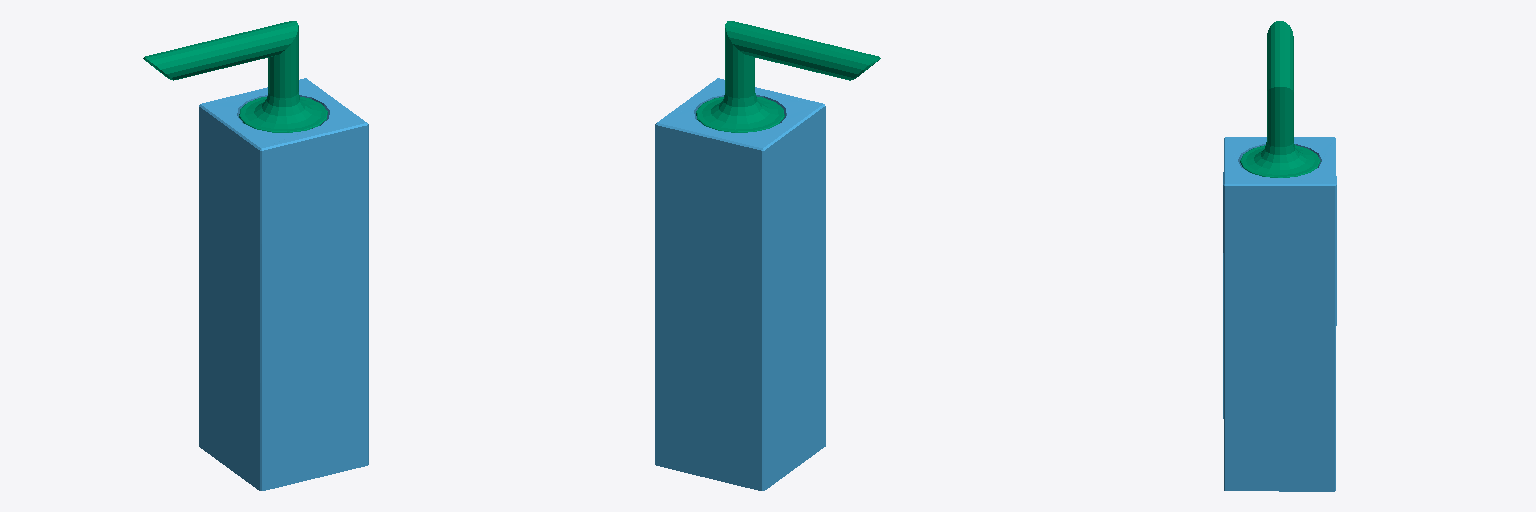
URDF robot description (partnet_76221d93ba6f391876c18e71fd49c4dc):
<?xml version="1.0" ?>
<robot name="partnet_76221d93ba6f391876c18e71fd49c4dc">
	<link name="base"/>
	<link name="link_0">
		<visual name="base_body-4">
			<origin xyz="0 0 0"/>
			<geometry>
				<mesh filename="textured_objs/original_1.obj"/>
			</geometry>
		</visual>
		<collision>
			<origin xyz="0 0 0"/>
			<geometry>
				<mesh filename="textured_objs/original_1.obj"/>
			</geometry>
		</collision>
	</link>
	<joint name="joint_0" type="fixed">
		<origin rpy="1.570796326794897 0 -1.570796326794897" xyz="0 0 0"/>
		<child link="link_0"/>
		<parent link="base"/>
	</joint>
	<link name="link_1">
		<visual name="pressing_lid-2">
			<origin xyz="-0.0003029999999999977 0 0.014980500000000008"/>
			<geometry>
				<mesh filename="textured_objs/original_3.obj"/>
			</geometry>
		</visual>
		<visual name="outlier-3">
			<origin xyz="-0.0003029999999999977 0 0.014980500000000008"/>
			<geometry>
				<mesh filename="textured_objs/original_4.obj"/>
			</geometry>
		</visual>
		<collision>
			<origin xyz="-0.0003029999999999977 0 0.014980500000000008"/>
			<geometry>
				<mesh filename="textured_objs/original_3.obj"/>
			</geometry>
		</collision>
		<collision>
			<origin xyz="-0.0003029999999999977 0 0.014980500000000008"/>
			<geometry>
				<mesh filename="textured_objs/original_4.obj"/>
			</geometry>
		</collision>
	</link>
	<joint name="joint_1" type="continuous">
		<origin xyz="0.0 0 0.0"/>
		<axis xyz="0 1 0"/>
		<child link="link_1"/>
		<parent link="link_1_helper"/>
	</joint>
	<link name="link_1_helper">
		<inertial>
			<origin xyz="0 0 0"/>
			<mass value="1e-6"/>
			<inertia ixx="1e-10" ixy="0" ixz="0" iyy="1e-10" iyz="0" izz="1e-10"/>
		</inertial>
	</link>
	<joint name="joint_2" type="prismatic">
		<origin xyz="0.0003029999999999977 0 -0.014980500000000008"/>
		<axis xyz="0 -1 0"/>
		<child link="link_1_helper"/>
		<parent link="link_0"/>
		<limit lower="0" upper="0.04800000000000004"/>
	</joint>
</robot>

--- What the picture shows (computed from the rendered views, not written in the file) ---
The picture shows the robot from 3 angles, left to right: view 1: azimuth 30°, elevation 25°; view 2: azimuth 150°, elevation 25°; view 3: azimuth 270°, elevation 25°; orthographic projection.
Model partnet_76221d93ba6f391876c18e71fd49c4dc with 4 links and 3 joints (1 continuous, 1 prismatic, 1 fixed), rooted at base, posed every joint at zero.
Links seen in each view (by area): view 1: link_0, link_1; view 2: link_0, link_1; view 3: link_0, link_1.
Link boxes in pixels (x1=…): link_0: x1=199, y1=78, x2=368, y2=490; link_1: x1=143, y1=21, x2=327, y2=132; link_0: x1=655, y1=78, x2=825, y2=490; link_1: x1=696, y1=21, x2=880, y2=132; link_0: x1=1223, y1=137, x2=1336, y2=491; link_1: x1=1240, y1=21, x2=1320, y2=177.
Size in the robot's own frame: 0.7728 by 0.4367 by 1.65 metres.
3 mesh visuals loaded from 3 distinct referenced files (3 OBJ).
